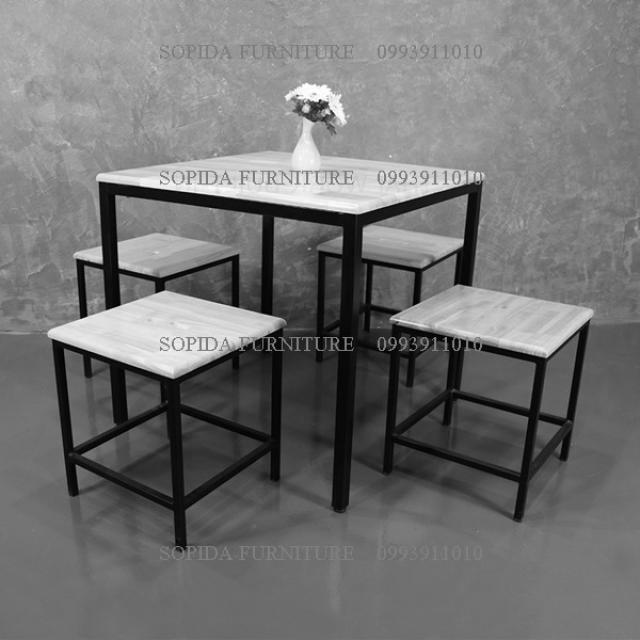table: (87, 132, 498, 265)
